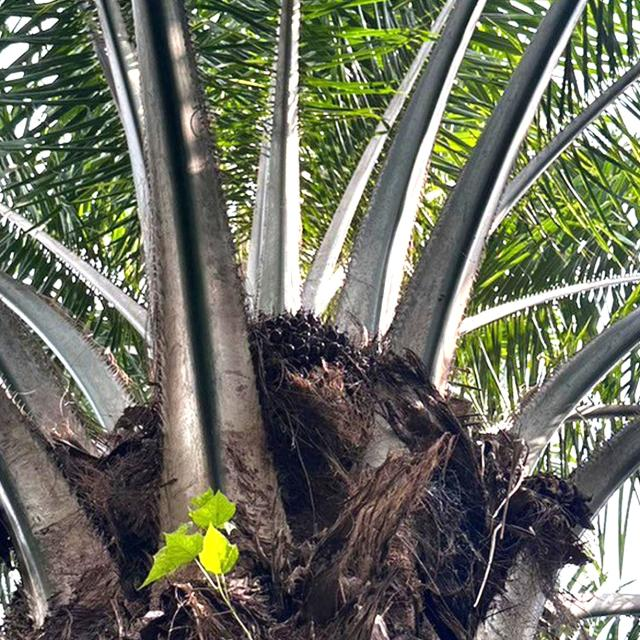almost: (240, 302, 400, 456)
